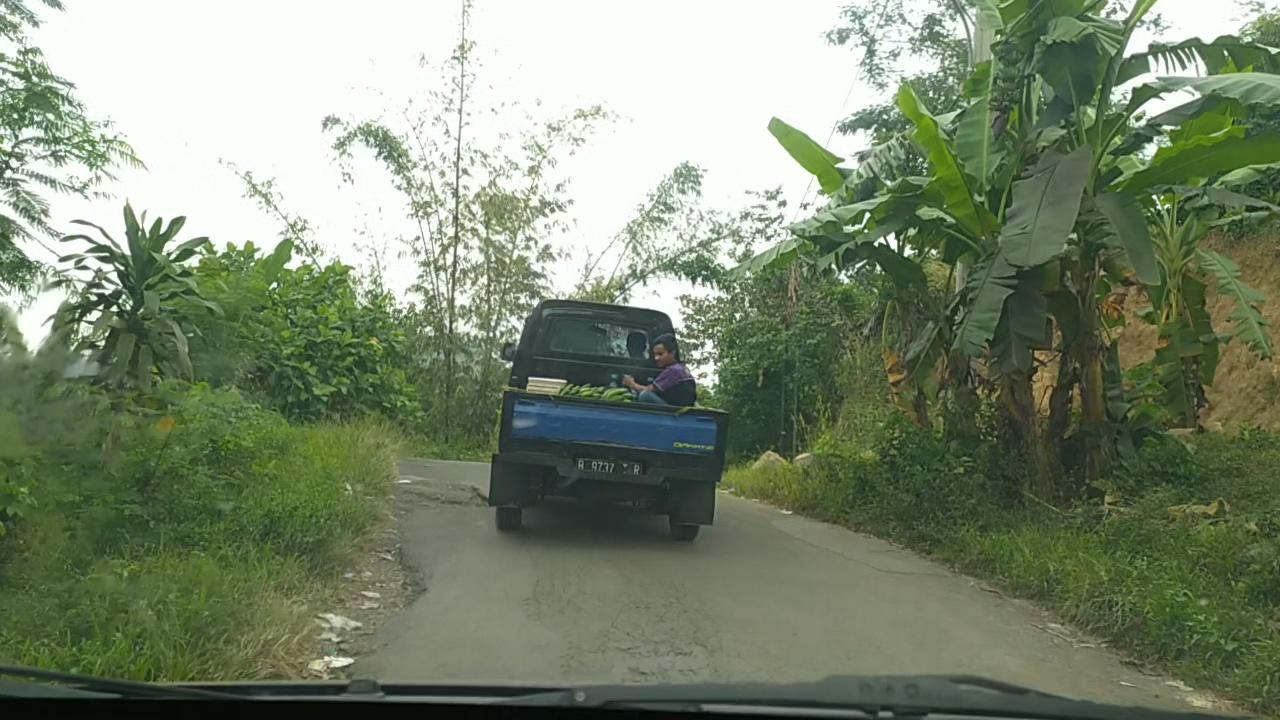pothole: (399, 479, 490, 514)
